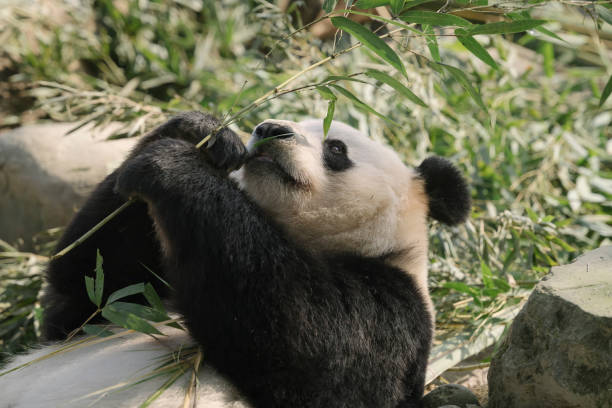panda: (227, 91, 498, 302)
